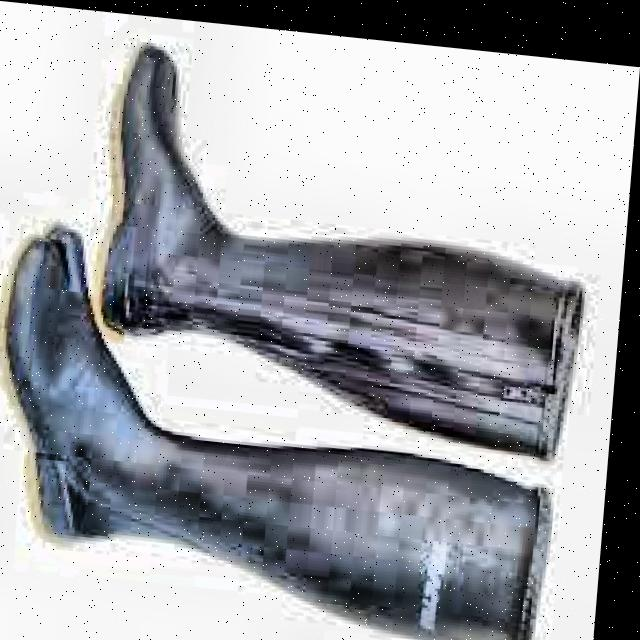shoes: (0, 9, 622, 640)
